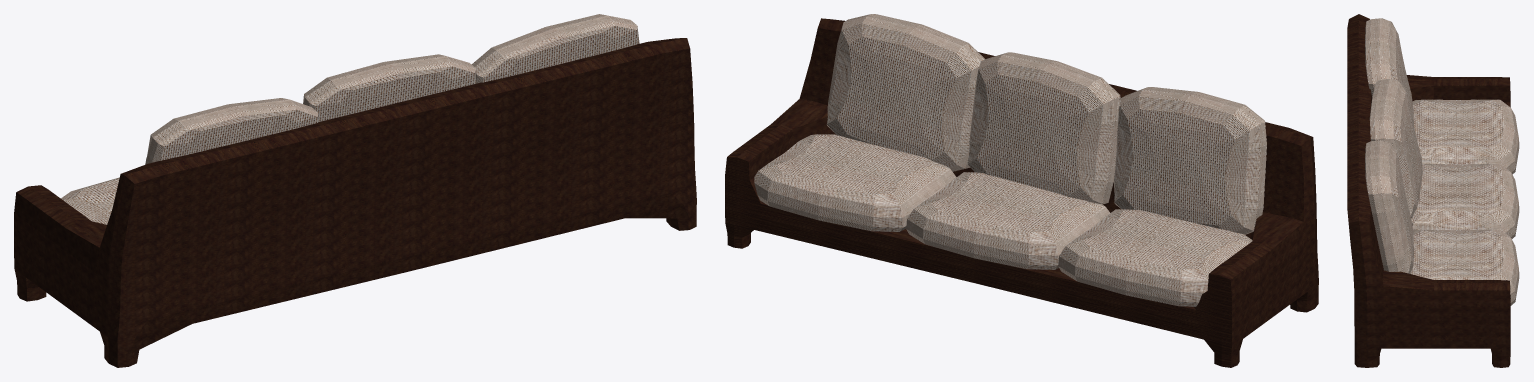
Rendered from couch 1.glb.
3 renders of one model, left to right at view 1: azimuth 30°, elevation 25°; view 2: azimuth 150°, elevation 25°; view 3: azimuth 270°, elevation 25°, orthographic. The views are drawn at different scales.
Parts seen in each view (by area): view 1: COUCH; view 2: COUCH; view 3: COUCH.
Part boxes in pixels (x1,y1,x2,y2): COUCH: (14, 14, 696, 367); COUCH: (725, 14, 1318, 367); COUCH: (1347, 14, 1519, 367).
Bounding box in the file's own units: 4.11 × 1.47 × 1.39.
Materials: 2 (2 with a texture image).
